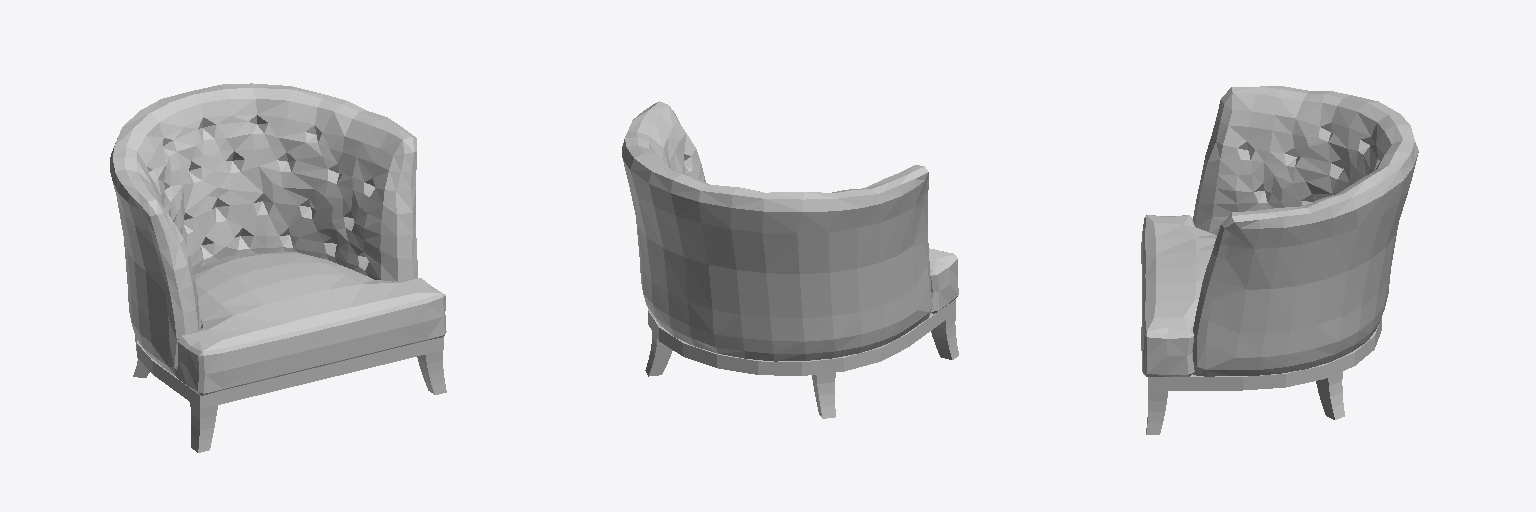
File: couch.obj
3 renders of one model, left to right at view 1: azimuth 30°, elevation 25°; view 2: azimuth 150°, elevation 25°; view 3: azimuth 270°, elevation 25°, orthographic.
Parts seen in each view (by area): view 1: Parsifal_armchair; view 2: Parsifal_armchair; view 3: Parsifal_armchair.
Part boxes in pixels (x1,y1,x2,y2): Parsifal_armchair: (110, 83, 446, 452); Parsifal_armchair: (622, 101, 958, 418); Parsifal_armchair: (1141, 86, 1418, 434).
Size of the model in its own units: 3.76 by 3.07 by 3.28.